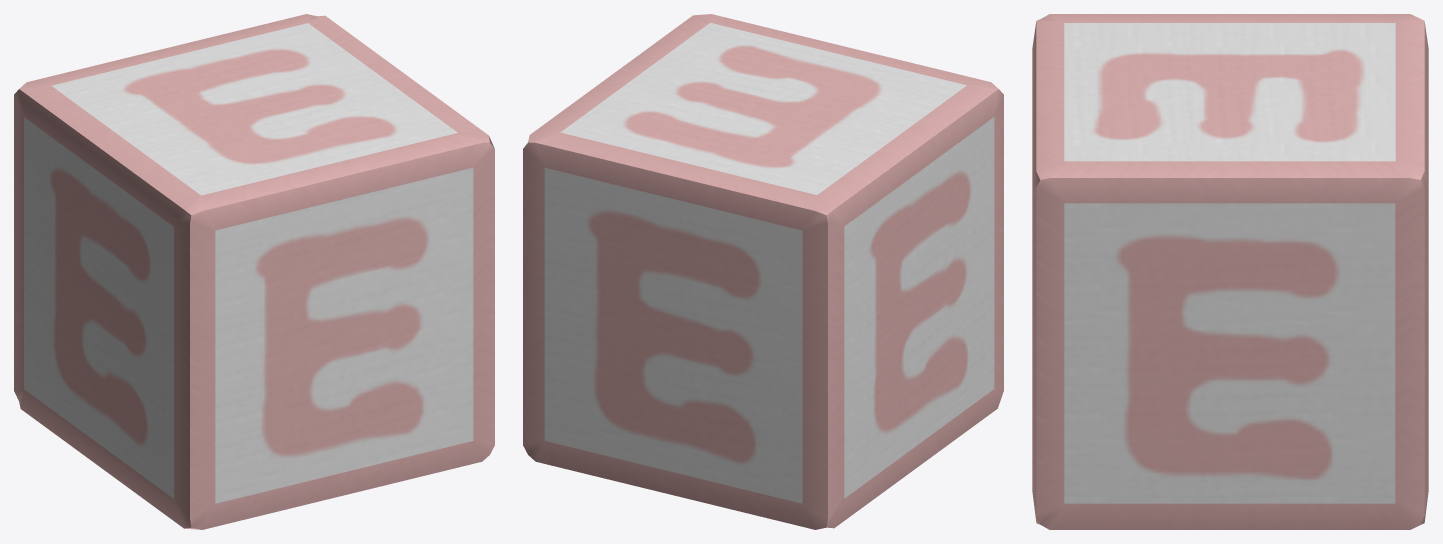
Rendered from BlockE.fbx.
The picture shows the model from 3 angles, left to right: view 1: azimuth 30°, elevation 25°; view 2: azimuth 150°, elevation 25°; view 3: azimuth 270°, elevation 25°; orthographic projection. The views are drawn at different scales.
Parts seen in each view (by area): view 1: pCube1; view 2: pCube1; view 3: pCube1.
Boxes of the visible parts, <box> form: pCube1: <box>14,14,494,529</box>; pCube1: <box>523,14,1003,529</box>; pCube1: <box>1032,14,1428,529</box>.
Size of the model in its own units: 9 by 9 by 9.
